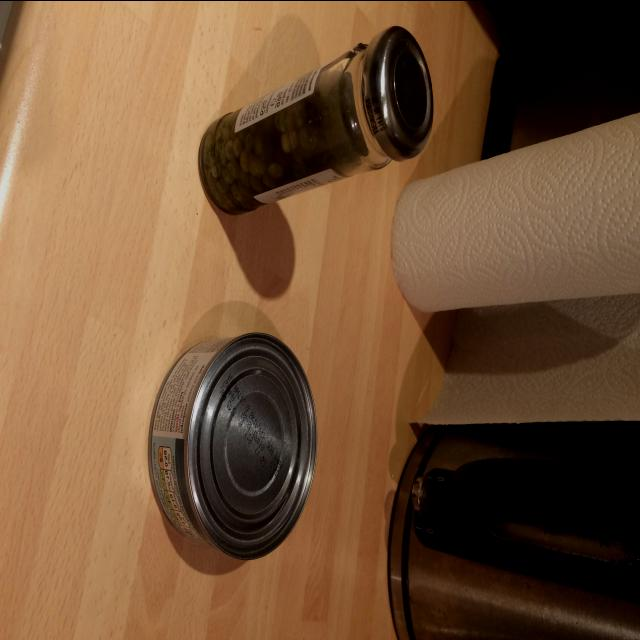Food Can: (150, 333, 317, 559)
Glass jar: (199, 24, 433, 213)
Metal lid: (362, 25, 433, 161)
Tissues: (391, 111, 640, 423)
